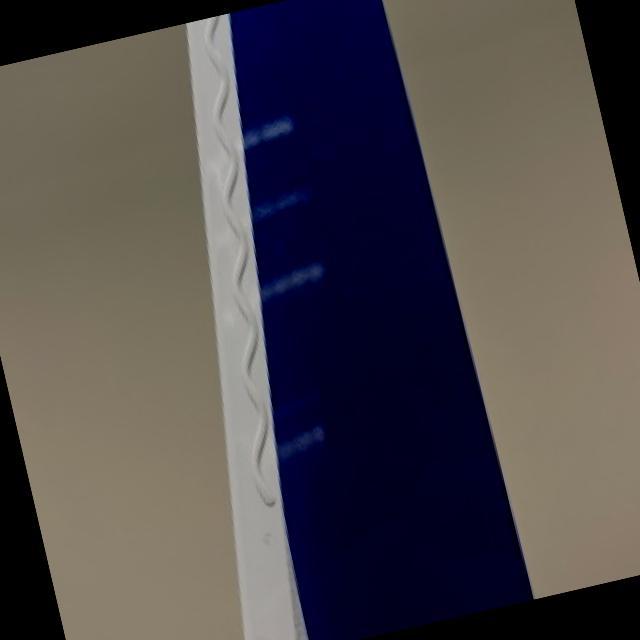healthy: (189, 0, 534, 640)
